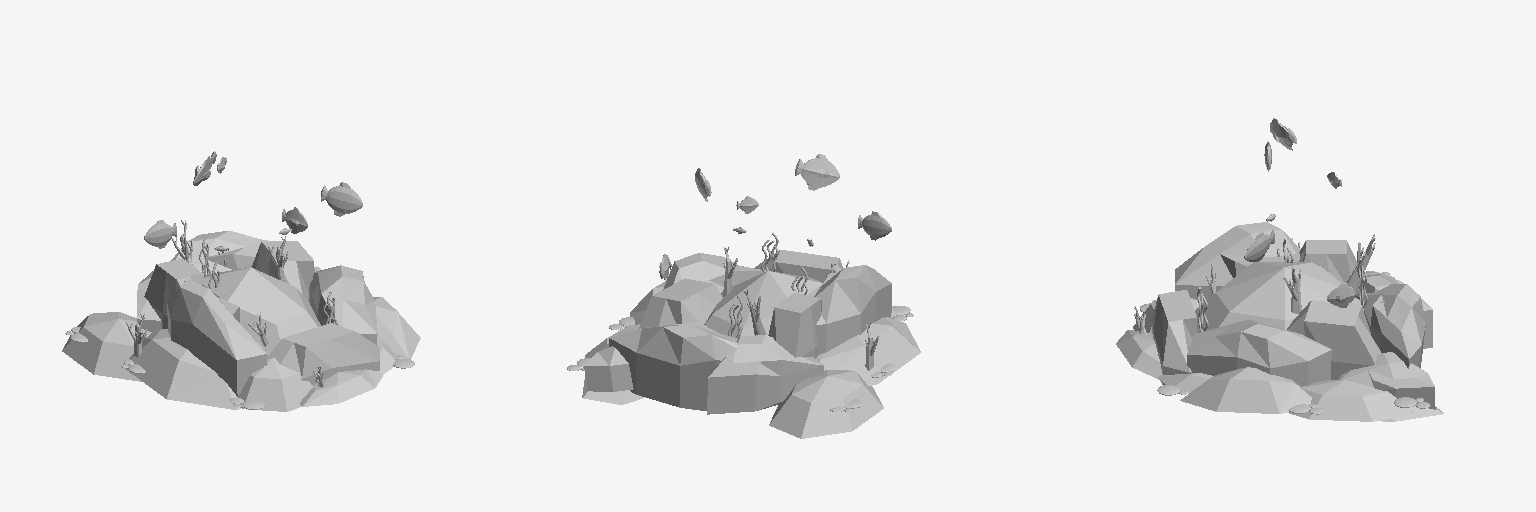
File: pecera1.obj
3 renders of one model, left to right at view 1: azimuth 30°, elevation 25°; view 2: azimuth 150°, elevation 25°; view 3: azimuth 270°, elevation 25°, orthographic.
Parts seen in each view (by area): view 1: Underwater_Scene2:sphere[number redacted] pasted__group1 group2; view 2: Underwater_Scene2:sphere[number redacted] pasted__group1 group2; view 3: Underwater_Scene2:sphere[number redacted] pasted__group1 group2.
Boxes of the visible parts, box(x1,y1,x2,y2) form: Underwater_Scene2:sphere[number redacted] pasted__group1 group2: box(62, 151, 420, 411); Underwater_Scene2:sphere[number redacted] pasted__group1 group2: box(567, 154, 920, 438); Underwater_Scene2:sphere[number redacted] pasted__group1 group2: box(1116, 118, 1443, 421).
Bounding box in the file's own units: 0.6587 × 0.511 × 0.6728.